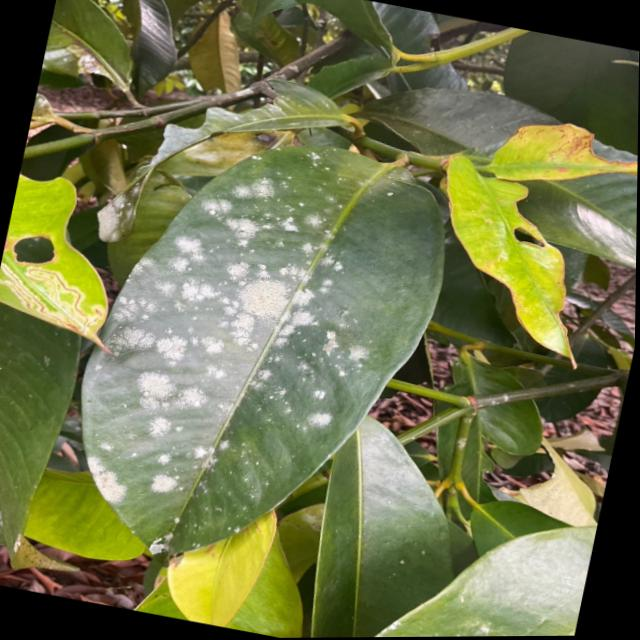Leaf Spot: (69, 288, 377, 553), (164, 225, 375, 345), (219, 156, 370, 260)
